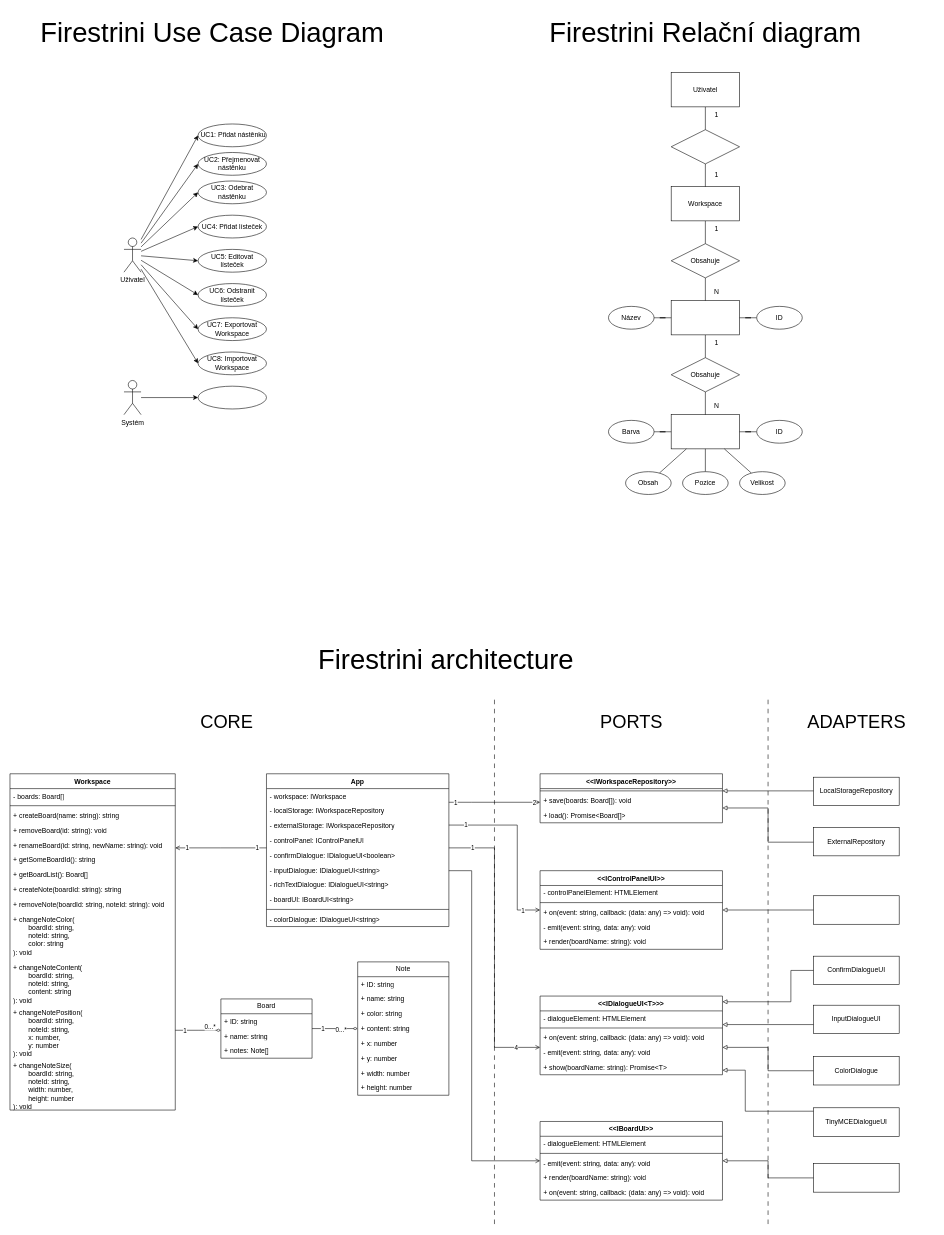
Some shapes in this 944 by 1235 pixel diagram are drawn without their labels. The shapes that lost their labels are listed below. From the top down, each one's centre as x and y in pixels, then its label:
At point 705,146: "Spravuje".
At point 705,317: "Nástěnka".
At point 232,397: "UC9: Uložit".
At point 705,431: "Lísteček".
At point 856,909: "ControlPanelUI".
At point 856,1177: "KonvaBoardUI".
